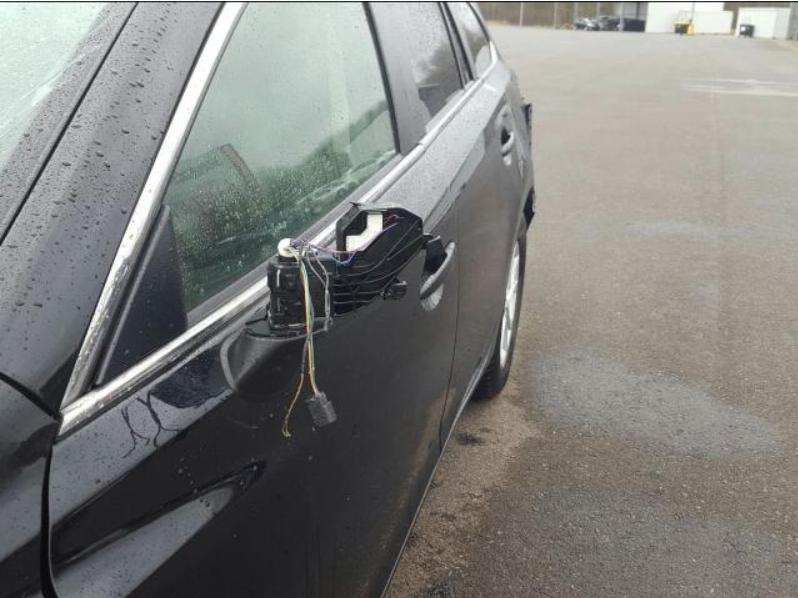broken_mirror: (229, 196, 448, 439)
